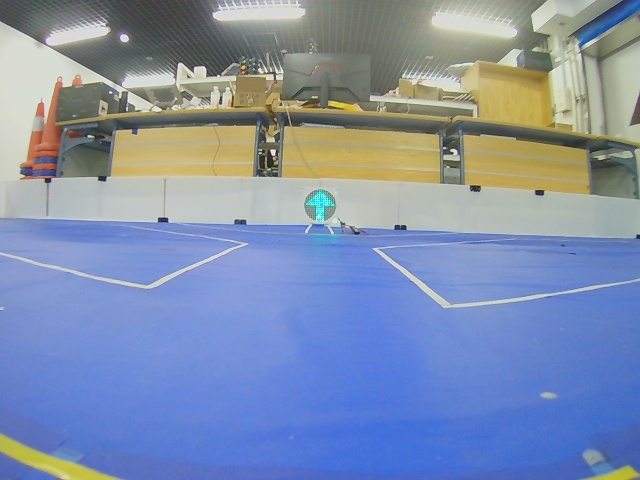straight_green: (305, 189, 335, 223)
